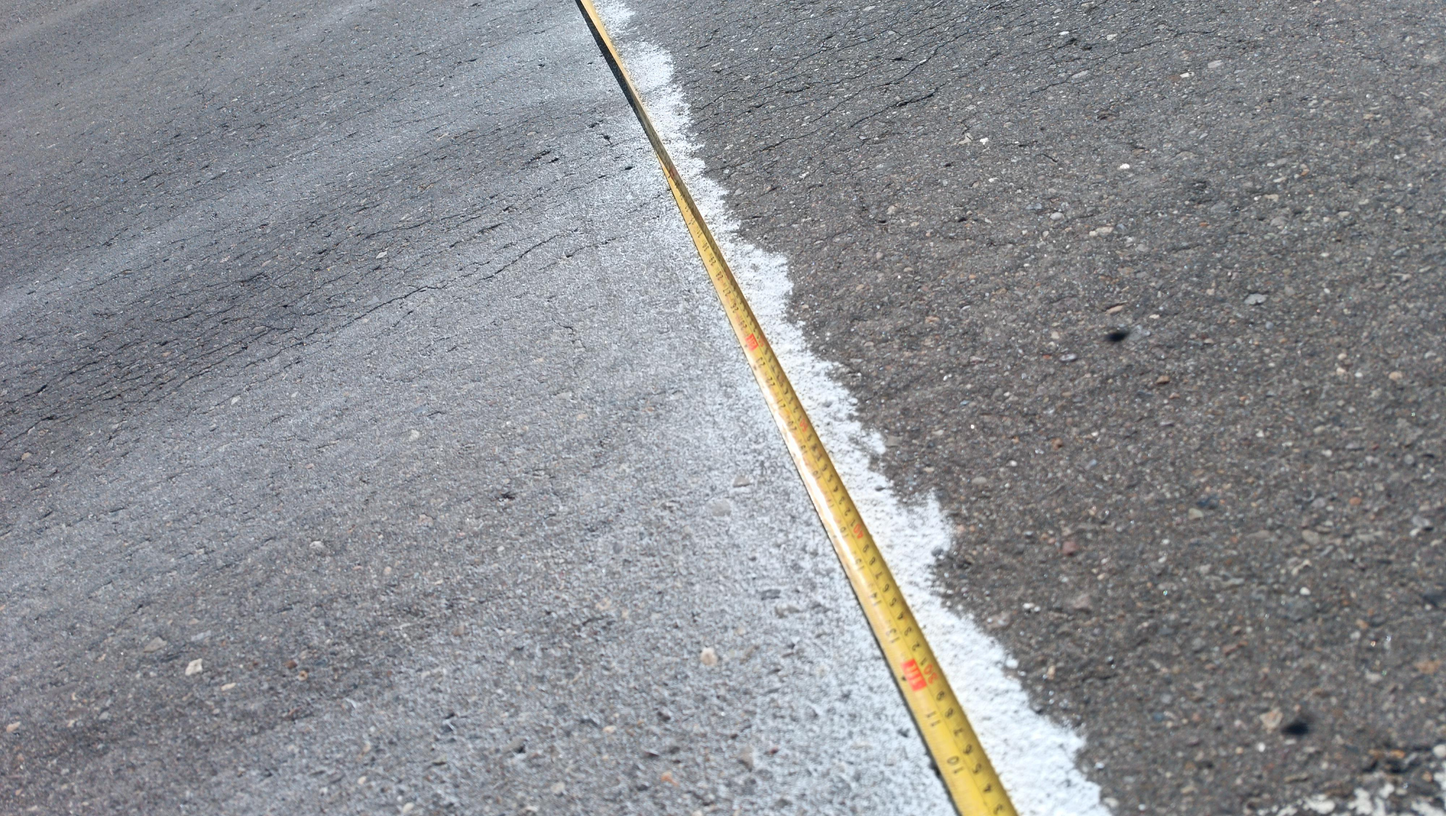PIEL DE COCODRILO: (0, 106, 643, 556), (674, 0, 1298, 180)
